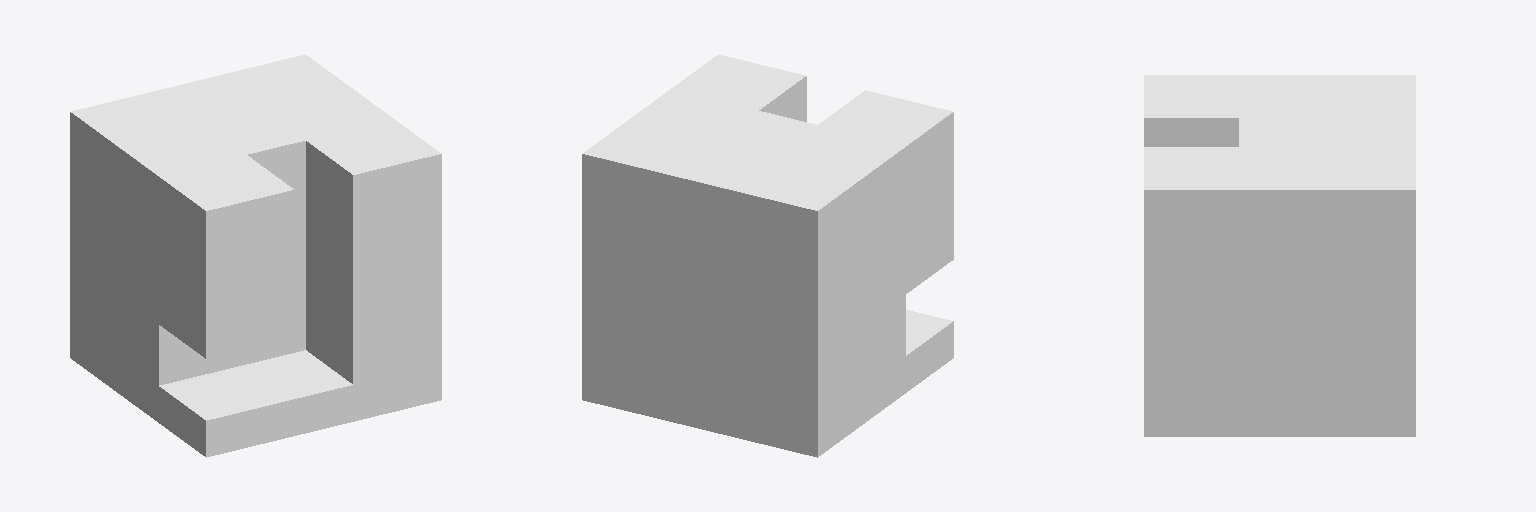
Rendered from TestBG.obj.
3 views of the same model, side by side, from view 1: azimuth 30°, elevation 25°; view 2: azimuth 150°, elevation 25°; view 3: azimuth 270°, elevation 25° (orthographic).
Visible parts, largest first — view 1: TestBG; view 2: TestBG; view 3: TestBG.
Part boxes in pixels (bbox=[...]): TestBG: bbox=[70, 54, 441, 457]; TestBG: bbox=[582, 54, 953, 457]; TestBG: bbox=[1144, 75, 1415, 436].
Size of the model in its own units: 40 by 40 by 40.